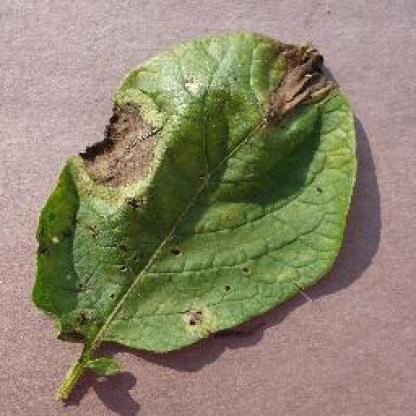bad leaf: (32, 0, 346, 413)
